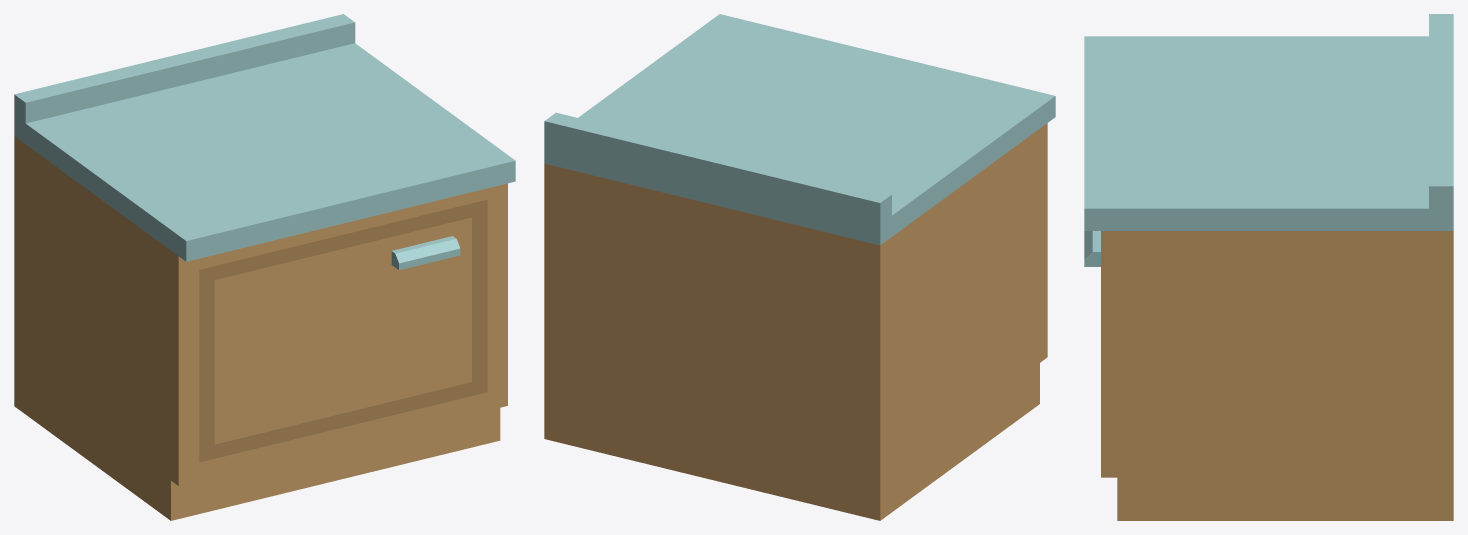
File: f_counter.glb
3 views of the same model, side by side, from view 1: azimuth 30°, elevation 25°; view 2: azimuth 150°, elevation 25°; view 3: azimuth 270°, elevation 25° (orthographic). The views are drawn at different scales.
Visible parts, largest first — view 1: body, surface_1; view 2: body, surface_1; view 3: body, surface_1.
Boxes of the visible parts, x1,y1,x2,y2 form: body: (14,14,515,520); surface_1: (42,48,471,235); body: (544,14,1055,520); surface_1: (586,19,1019,207); body: (1084,14,1453,520); surface_1: (1092,40,1420,204).
Size of the model in its own units: 0.995 by 0.9 by 0.9.
